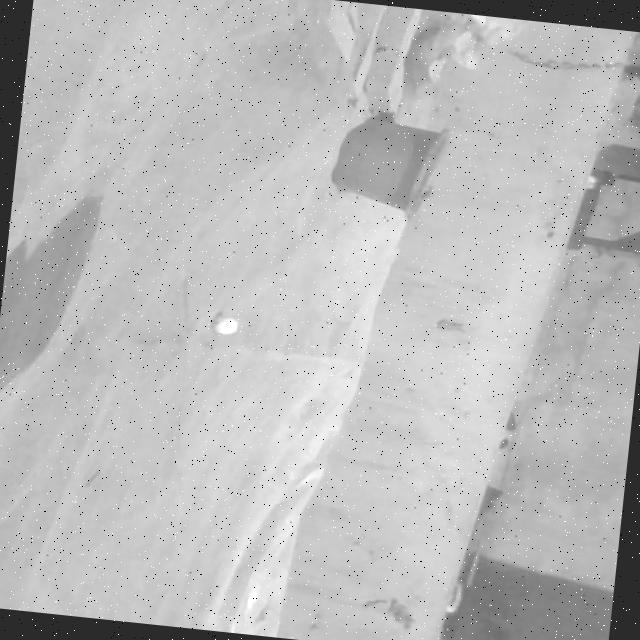ping-pong-ball: (212, 316, 238, 334)
